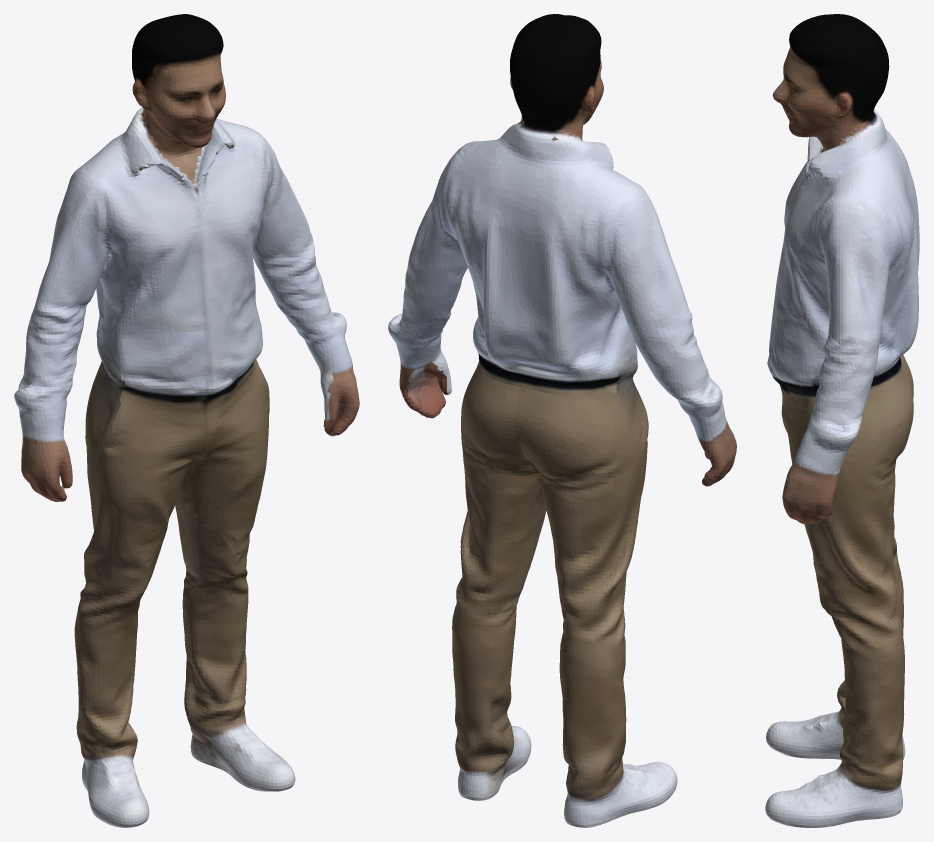
Rendered from brian.glb.
3 renders of one model, left to right at view 1: azimuth 30°, elevation 25°; view 2: azimuth 150°, elevation 25°; view 3: azimuth 270°, elevation 25°, orthographic.
Visible parts, largest first — view 1: tmp5s9s96da.ply; view 2: tmp5s9s96da.ply; view 3: tmp5s9s96da.ply.
Part boxes in pixels (x1=…): tmp5s9s96da.ply: x1=14, y1=14, x2=359, y2=827; tmp5s9s96da.ply: x1=388, y1=14, x2=736, y2=827; tmp5s9s96da.ply: x1=765, y1=14, x2=919, y2=827.
Bounding box in the file's own units: 0.888 × 1.99 × 0.3645.
1 material, 1 textured.
